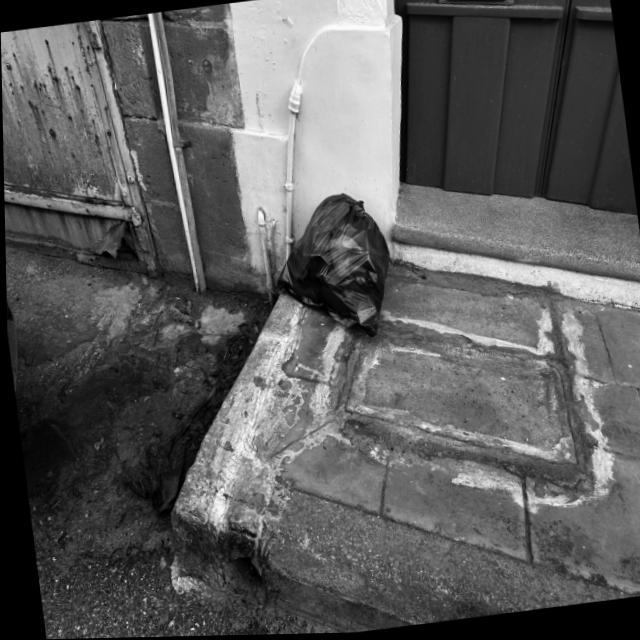Mixed Waste -Black Bags-: (275, 194, 388, 338)
